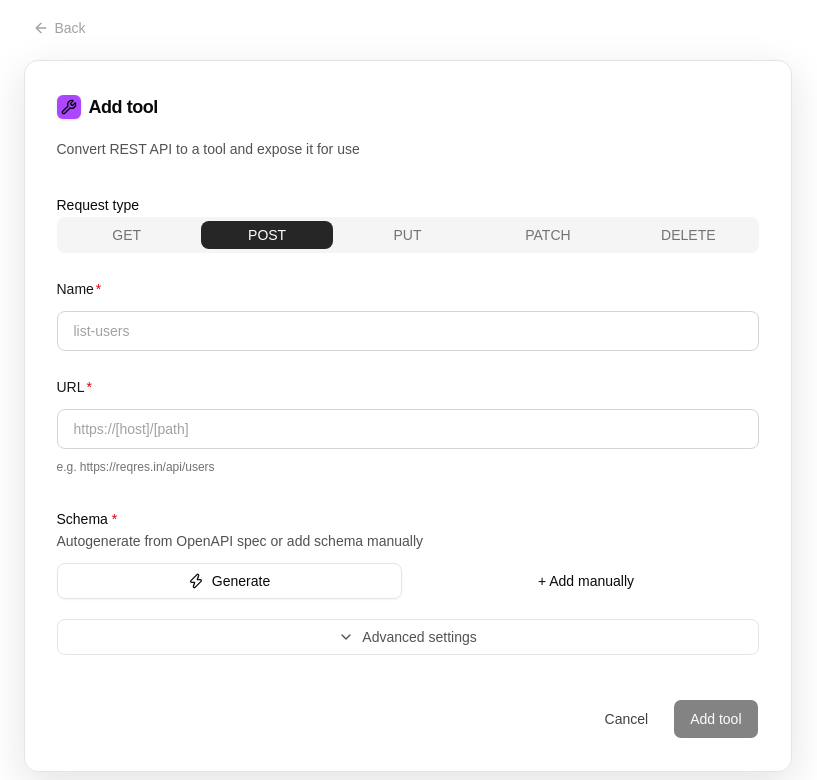
ToolForm › Schema generation from OpenAPI › announces a generation failure via an assertive alert
The width and height of the screenshot is (817, 780).
Type "https://api.example.com/endpoint" into the field labelled "URL *".
click(408, 429); type("https://api.example.com/endpoint")  # box x1=56 y1=409 x2=758 y2=449
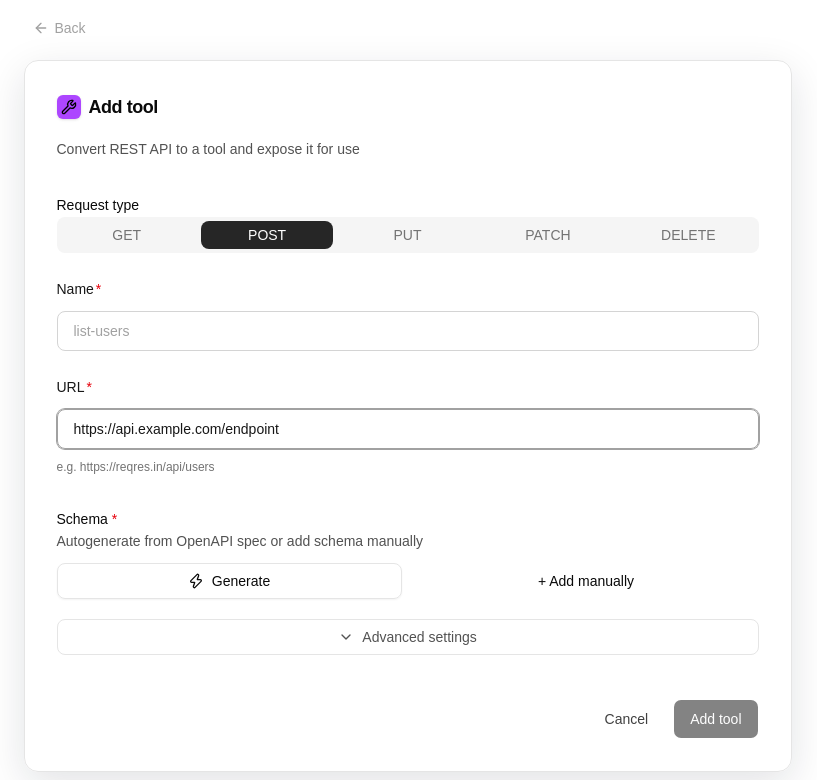
Click the button "Generate".
click(229, 581)  # box x1=56 y1=563 x2=402 y2=599
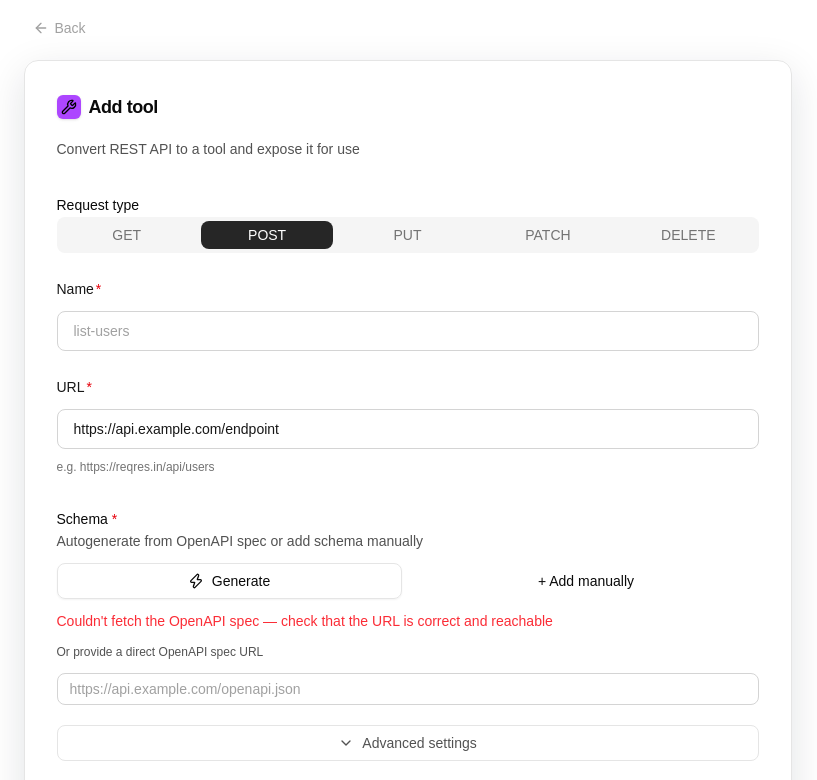
Expected: the message shows "Couldn't fetch the OpenAPI spec", x1=56 y1=613 x2=553 y2=629
